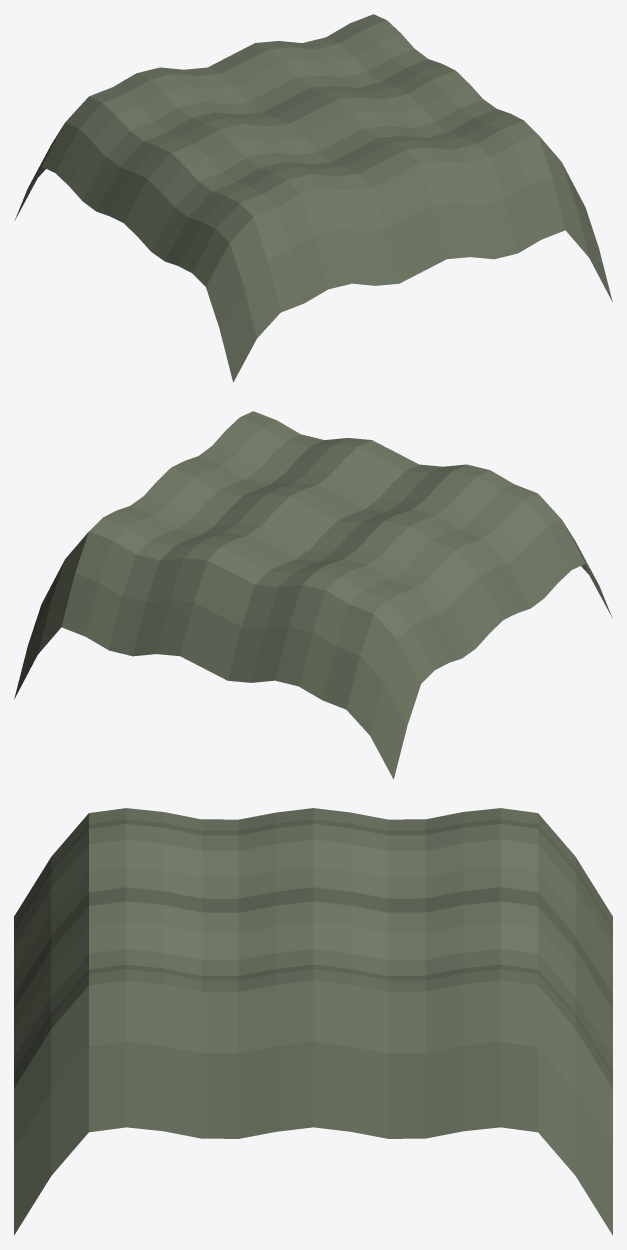
File: SM_Canvas.fbx
The picture shows the model from 3 angles, top to bottom: view 1: azimuth 30°, elevation 25°; view 2: azimuth 150°, elevation 25°; view 3: azimuth 270°, elevation 25°; orthographic projection. The views are drawn at different scales.
Parts seen in each view (by area): view 1: SM_Canvas; view 2: SM_Canvas; view 3: SM_Canvas.
Boxes of the visible parts, x1,y1,x2,y2 form: SM_Canvas: (14,14,612,382); SM_Canvas: (14,411,612,779); SM_Canvas: (14,808,612,1235).
Bounding box in the file's own units: 120 × 120 × 49.51.
